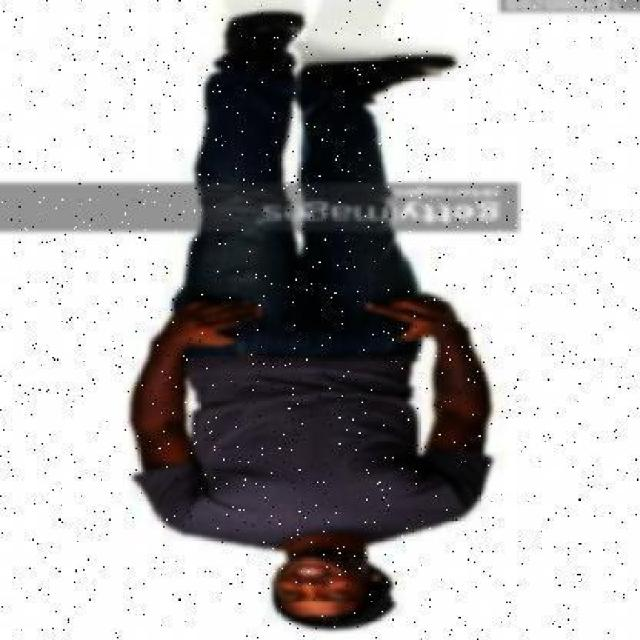person: (128, 12, 500, 632)
